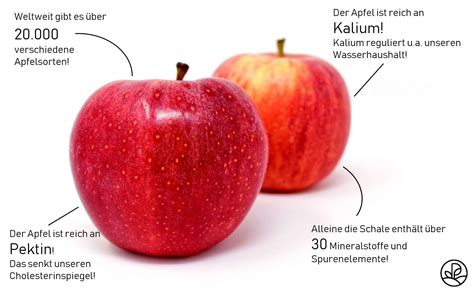apple: (67, 66, 273, 259), (211, 50, 354, 197)
